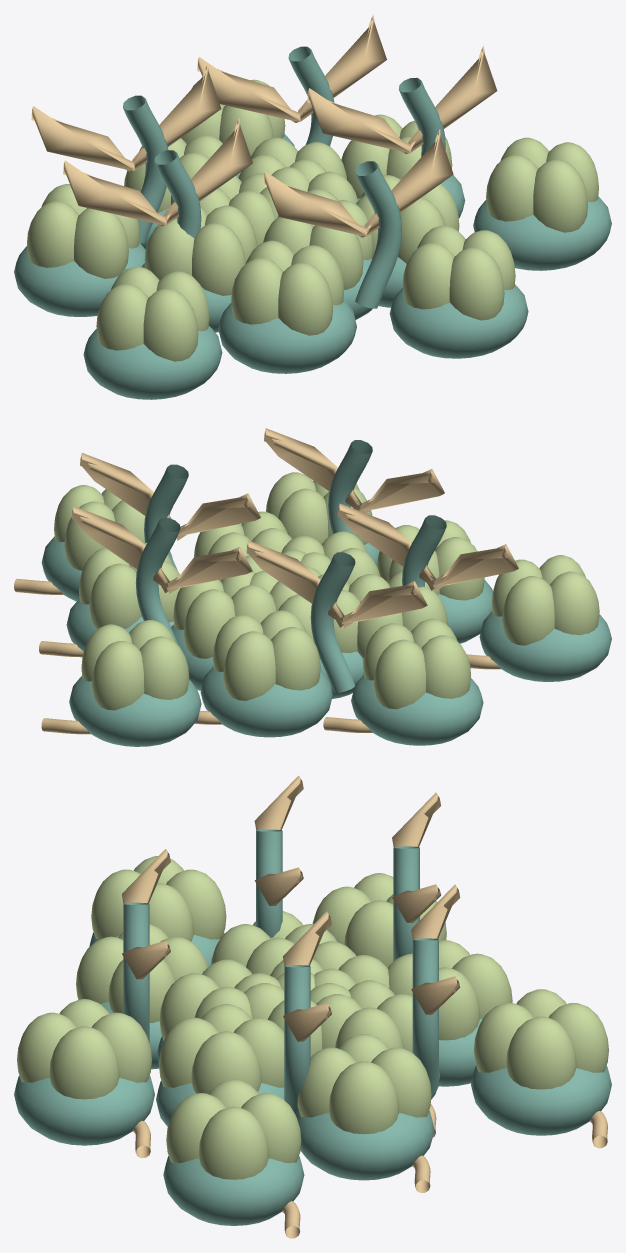
The model's file is bio_oxygen_reef_22_near.glb.
3 renders of one model, top to bottom at view 1: azimuth 30°, elevation 25°; view 2: azimuth 150°, elevation 25°; view 3: azimuth 270°, elevation 25°, orthographic. The views are drawn at different scales.
Visible parts, largest first — view 1: Lobed gas sac.048, Lobed gas sac.040, Lobed gas sac.028, Lobed gas sac.052, Lobed gas sac.036, Lobed gas sac.016, Photosynthetic cushion.010, Photosynthetic cushion.012, Photosynthetic cushion.007, Photosynthetic cushion.013, Secondary fan lobe.002, Secondary fan lobe.004 (+20 smaller); view 2: Lobed gas sac.024, Lobed gas sac.044, Lobed gas sac.036, Lobed gas sac.048, Photosynthetic cushion.011, Photosynthetic cushion.006, Photosynthetic cushion.009, Photosynthetic cushion.012, Lobed gas sac.012, Lobed gas sac.032, Secondary fan lobe.002, Secondary fan lobe.006 (+25 smaller); view 3: Lobed gas sac.040, Lobed gas sac.052, Lobed gas sac.044, Lobed gas sac.032, Lobed gas sac.020, Lobed gas sac.048, Photosynthetic cushion.013, Photosynthetic cushion.011, Photosynthetic cushion.010, Photosynthetic cushion.008, Lobed gas sac.024, Lobed gas sac.028 (+18 smaller).
Part boxes in pixels (box(x1,y1,x2,y2)): Lobed gas sac.048: box(96, 266, 209, 361); Lobed gas sac.040: box(402, 225, 515, 320); Lobed gas sac.028: box(231, 240, 344, 335); Lobed gas sac.052: box(486, 137, 598, 232); Lobed gas sac.036: box(27, 184, 139, 278); Lobed gas sac.016: box(144, 205, 257, 295); Photosynthetic cushion.010: box(389, 284, 528, 358); Photosynthetic cushion.012: box(83, 325, 222, 399); Photosynthetic cushion.007: box(218, 299, 356, 373); Photosynthetic cushion.013: box(473, 196, 611, 270); Secondary fan lobe.002: box(31, 63, 221, 171); Secondary fan lobe.004: box(263, 129, 453, 237); Lobed gas sac.024: box(213, 610, 320, 700); Lobed gas sac.044: box(81, 620, 189, 710); Lobed gas sac.036: box(363, 618, 470, 709); Lobed gas sac.048: box(492, 555, 599, 645); Photosynthetic cushion.011: box(69, 676, 201, 746); Photosynthetic cushion.006: box(200, 666, 332, 737); Photosynthetic cushion.009: box(351, 675, 483, 745); Photosynthetic cushion.012: box(479, 611, 611, 681); Lobed gas sac.012: box(173, 571, 276, 658); Lobed gas sac.032: box(79, 542, 180, 628); Secondary fan lobe.002: box(246, 540, 427, 628); Secondary fan lobe.006: box(71, 506, 252, 593); Lobed gas sac.040: box(17, 999, 151, 1099); Lobed gas sac.052: box(166, 1079, 301, 1179); Lobed gas sac.044: box(474, 989, 608, 1089); Lobed gas sac.032: box(297, 1034, 431, 1134); Lobed gas sac.020: box(159, 1004, 284, 1094); Lobed gas sac.048: box(91, 856, 226, 941); Photosynthetic cushion.013: box(163, 1156, 304, 1225); Photosynthetic cushion.011: box(471, 1066, 611, 1135); Photosynthetic cushion.010: box(14, 1075, 154, 1145); Photosynthetic cushion.008: box(296, 1110, 434, 1180); Lobed gas sac.024: box(388, 940, 512, 1040); Lobed gas sac.028: box(76, 924, 208, 1022).
Size of the model in its own units: 2.35 by 0.765 by 2.03.
